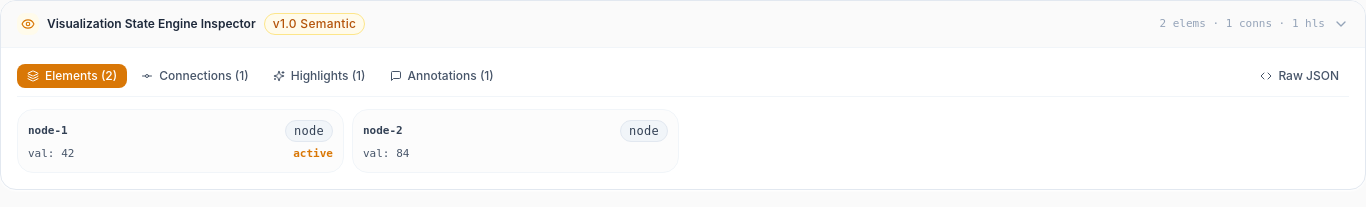
VisualizationInspector Component › switches tabs and displays connection and highlight details
The width and height of the screenshot is (1366, 207).
Check: the button "Elements (2)" is shown, box [17, 64, 127, 88]
Check: the text "node-1" is shown, box [28, 123, 68, 139]
// Switch to Connections tab
Click the button "Connections (1)": (195, 76) [131, 64, 259, 88]
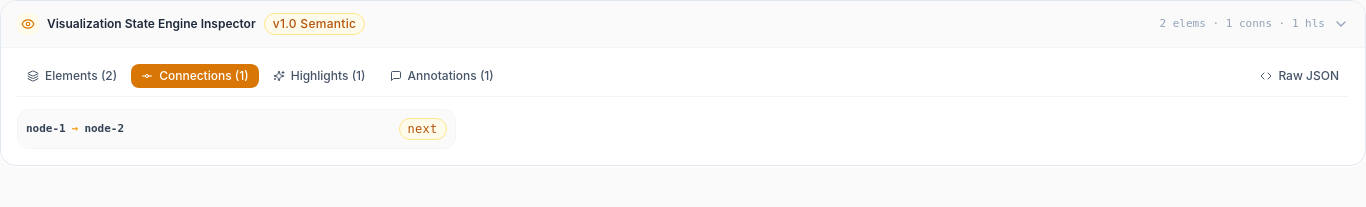
Check: the text "node-2" is shown, box [84, 121, 124, 137]
Check: the text "→" is shown, box [72, 121, 78, 137]
// Switch to Highlights tab
Click the button "Highlights (1)": (319, 76) [263, 64, 376, 88]
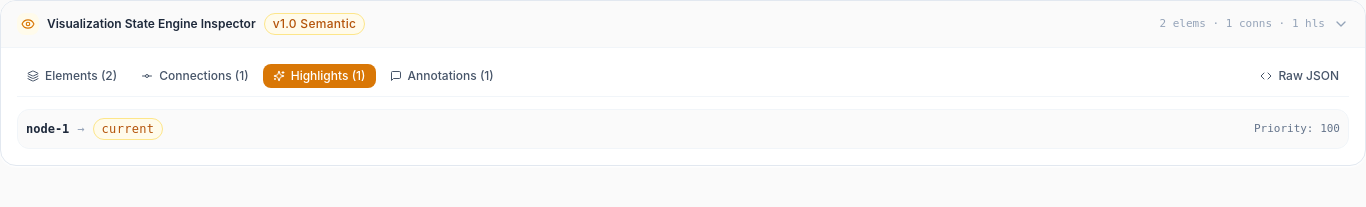
Check: the text "current" is shown, box [93, 118, 163, 140]
// Switch to Annotations tab
Click the button "Annotations (1)": (442, 76) [380, 64, 504, 88]
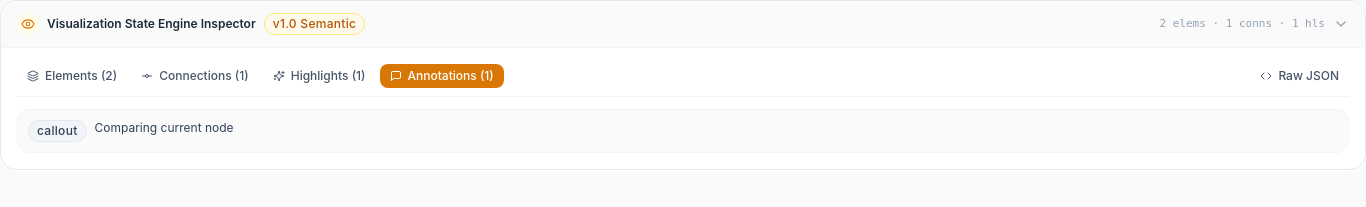
Check: the text "Comparing current node" is shown, box [95, 120, 234, 135]
